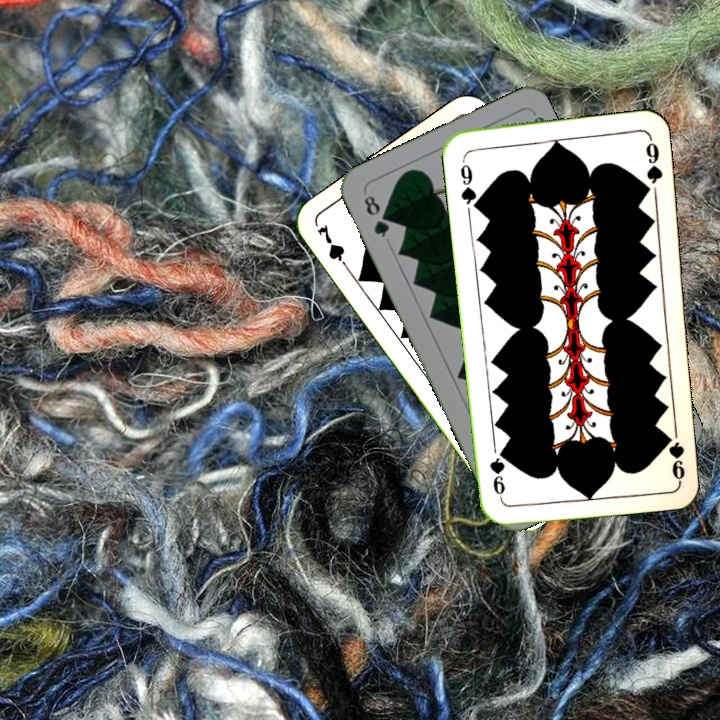G7: (313, 221, 352, 274)
G8: (359, 191, 392, 241)
G9: (456, 154, 481, 212), (666, 433, 688, 483)
